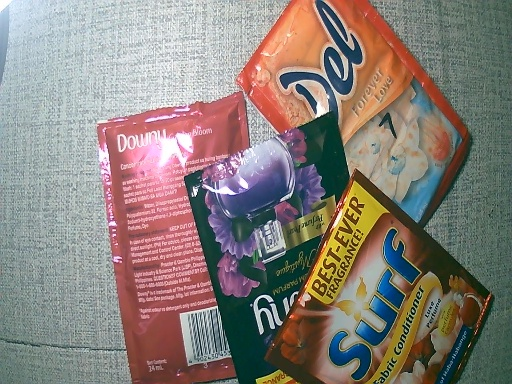plastic: (235, 7, 491, 226), (274, 165, 494, 384), (99, 93, 250, 384), (188, 117, 344, 384)
